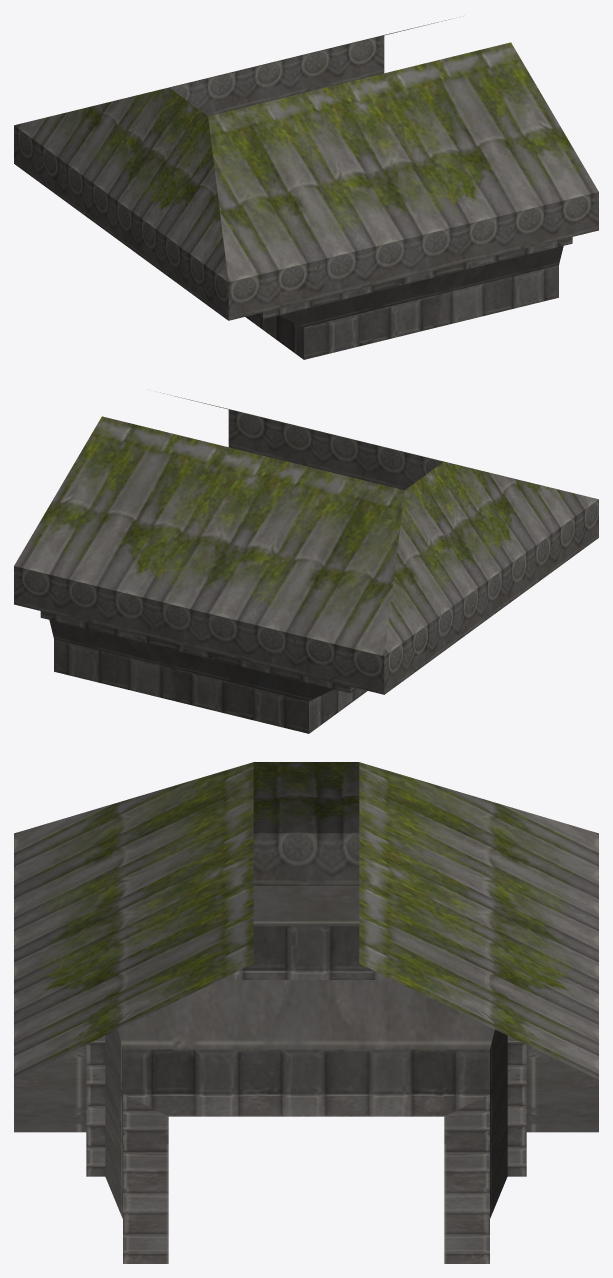
File: b_zx_qiangbi01_01_01.FBX
3 renders of one model, top to bottom at view 1: azimuth 30°, elevation 25°; view 2: azimuth 150°, elevation 25°; view 3: azimuth 270°, elevation 25°, orthographic. The views are drawn at different scales.
Parts seen in each view (by area): view 1: b_zx_qiangbi01_01_01; view 2: b_zx_qiangbi01_01_01; view 3: b_zx_qiangbi01_01_01.
Boxes of the visible parts, <box> form: b_zx_qiangbi01_01_01: <box>14,17,598,359</box>; b_zx_qiangbi01_01_01: <box>14,392,598,733</box>; b_zx_qiangbi01_01_01: <box>14,762,598,1263</box>.
Size of the model in its own units: 2.63 by 1.49 by 2.64.
